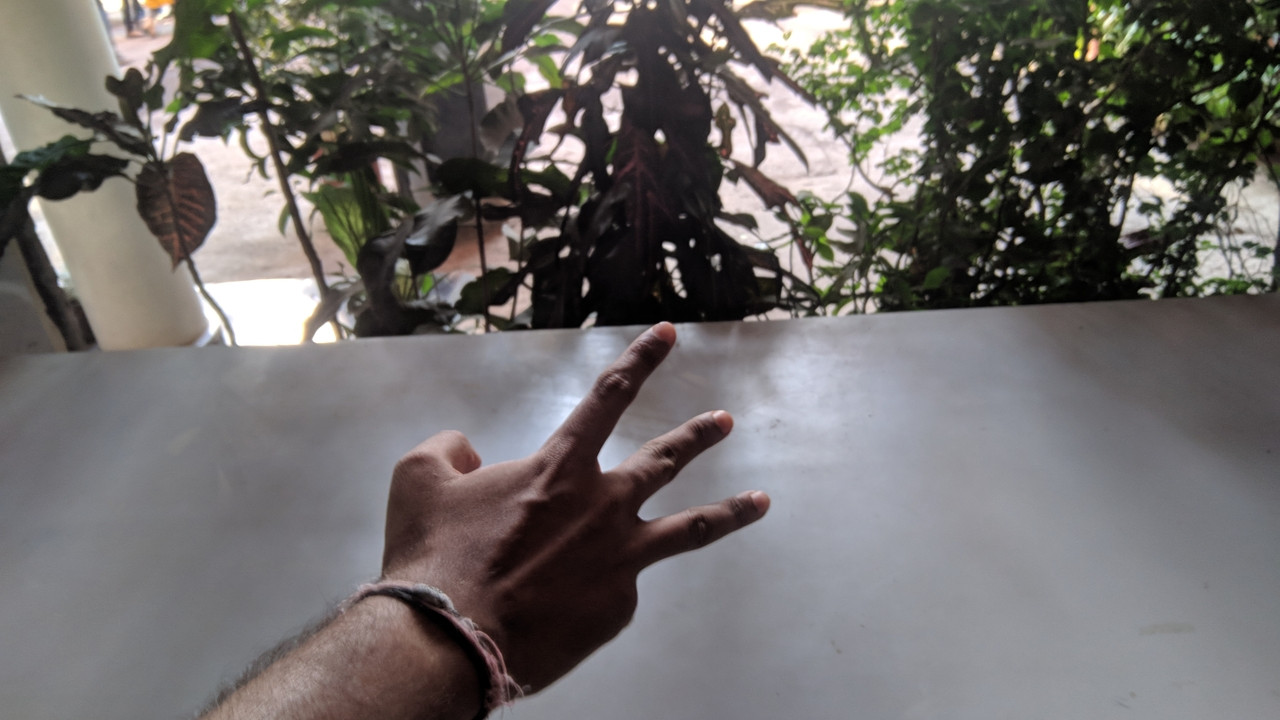fingertip: (672, 404, 738, 450), (624, 310, 682, 362), (739, 485, 777, 526)
